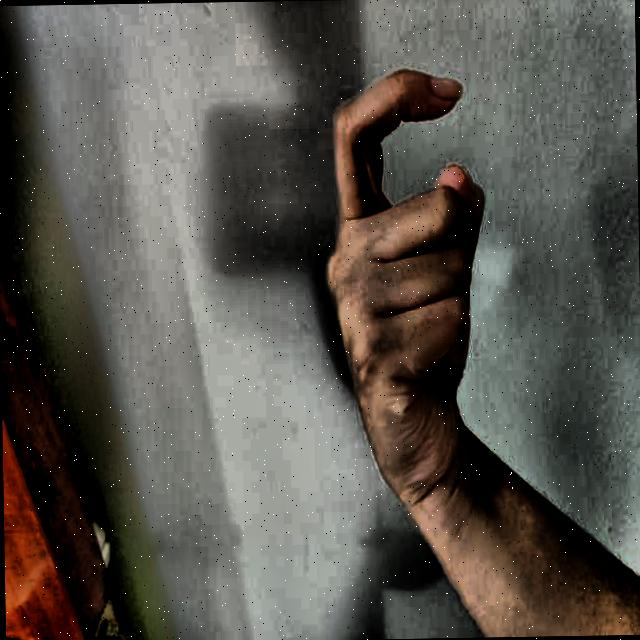E: (297, 17, 546, 500)
